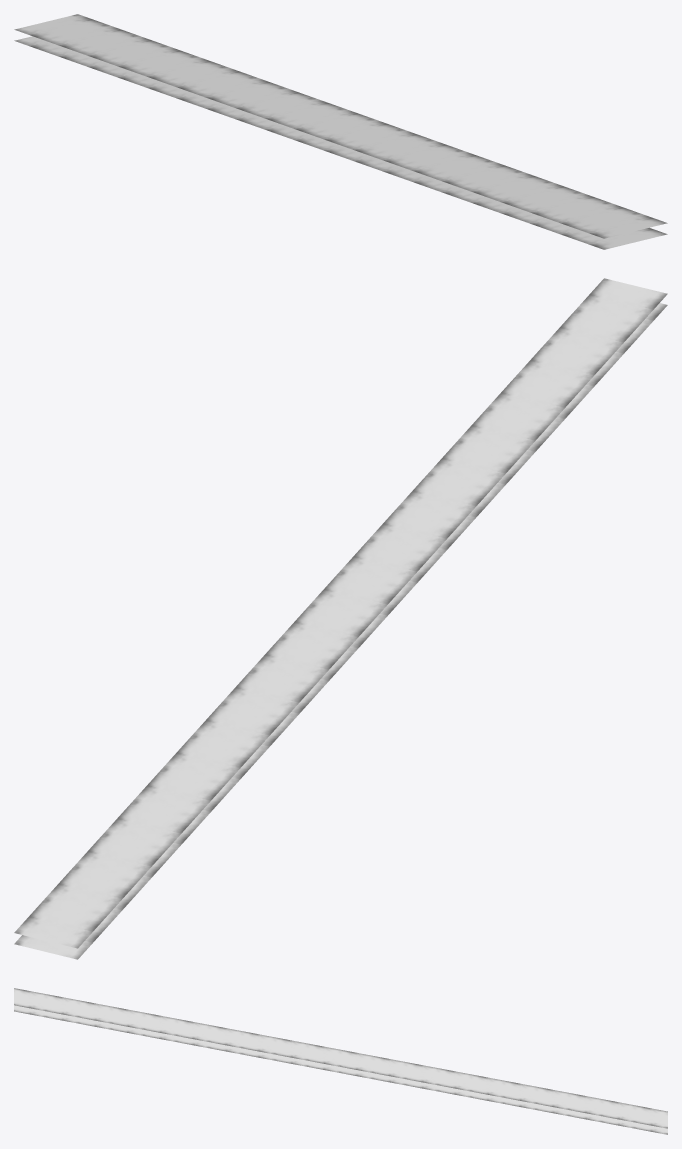
The model's file is CourseWinter_Floor_7.fbx.
The picture shows the model from 3 angles, top to bottom: view 1: azimuth 30°, elevation 25°; view 2: azimuth 150°, elevation 25°; view 3: azimuth 270°, elevation 25°; orthographic projection. The views are drawn at different scales.
Visible parts, largest first — view 1: polySurface694; view 2: polySurface694; view 3: polySurface694.
Part boxes in pixels (<box>): polySurface694: <box>14,14,667,249</box>; polySurface694: <box>14,278,667,959</box>; polySurface694: <box>14,988,667,1134</box>.
Size of the model in its own units: 6 by 21 by 96.
Materials: 1 (1 with a texture image).
